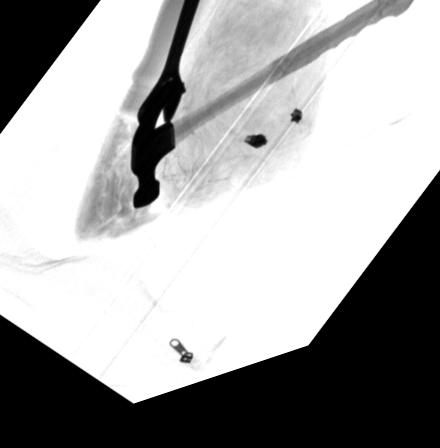Hammer: (130, 0, 420, 216)
Wrench: (137, 0, 204, 143)
